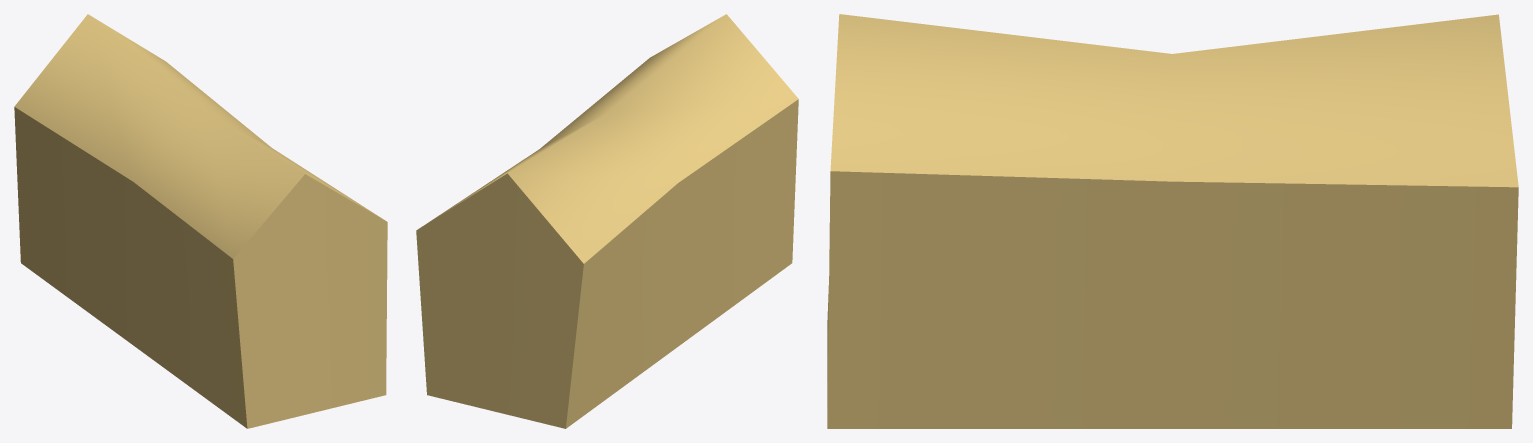
The model's file is house 1.fbx.
3 renders of one model, left to right at view 1: azimuth 30°, elevation 25°; view 2: azimuth 150°, elevation 25°; view 3: azimuth 270°, elevation 25°, orthographic. The views are drawn at different scales.
Visible parts, largest first — view 1: maison_1:pCube84; view 2: maison_1:pCube84; view 3: maison_1:pCube84.
Boxes of the visible parts, box(x1,y1,x2,y2) form: maison_1:pCube84: box(14, 14, 387, 428); maison_1:pCube84: box(416, 14, 798, 428); maison_1:pCube84: box(827, 14, 1518, 428).
Size of the model in its own units: 2725 by 3866 by 6761.
